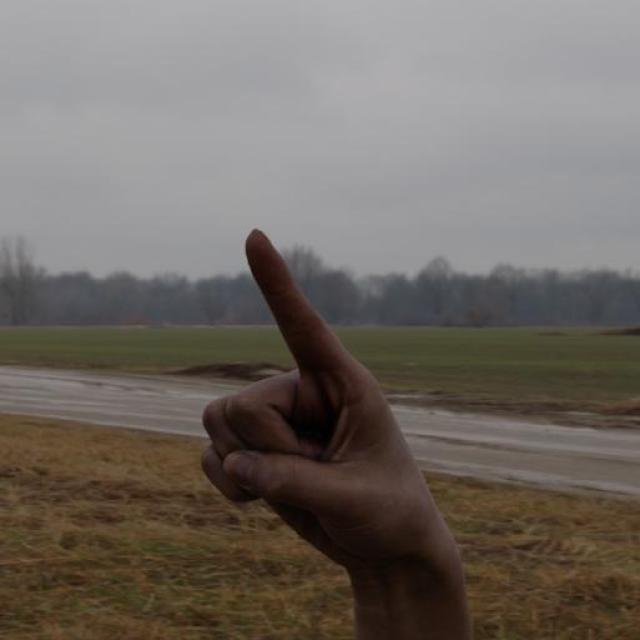Z: (170, 212, 482, 623)
